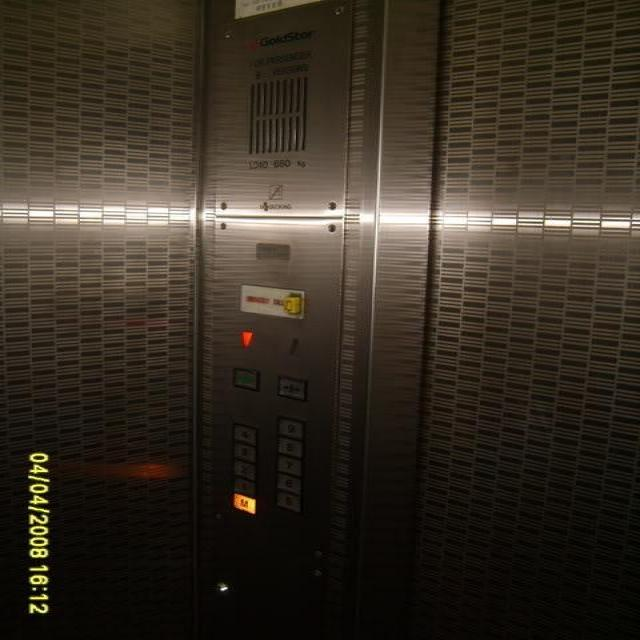1: (231, 475, 257, 495)
2: (231, 457, 257, 479)
4: (231, 421, 257, 444)
6: (273, 468, 304, 495)
7: (273, 452, 304, 477)
9: (273, 415, 304, 440)
M: (231, 489, 257, 514)
alarm: (282, 291, 302, 316)
blur: (273, 373, 308, 401), (229, 364, 259, 391), (273, 487, 304, 513), (273, 434, 304, 456), (231, 442, 257, 461), (209, 579, 235, 596)
